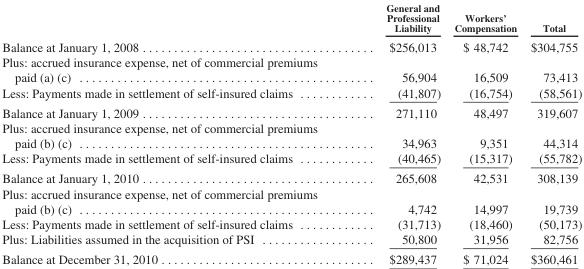table: (1, 1, 581, 265)
table column: (1, 1, 351, 265), (351, 1, 446, 265), (446, 1, 522, 265), (522, 1, 581, 265)
table column header: (1, 1, 581, 36)
table row: (1, 1, 581, 36), (1, 119, 581, 150), (1, 54, 581, 84), (1, 185, 581, 215), (1, 36, 581, 54), (1, 84, 581, 102), (1, 167, 581, 185), (1, 102, 581, 119), (1, 150, 581, 167), (1, 231, 581, 248), (1, 248, 581, 265), (1, 215, 581, 231)
